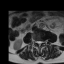CCS_normal: (38, 39, 40, 48)
LFS_stenosis: (42, 38, 44, 44)
LLS_normal: (40, 39, 42, 46)
RFS_normal: (34, 38, 36, 44)
RLS_normal: (36, 39, 38, 45)
